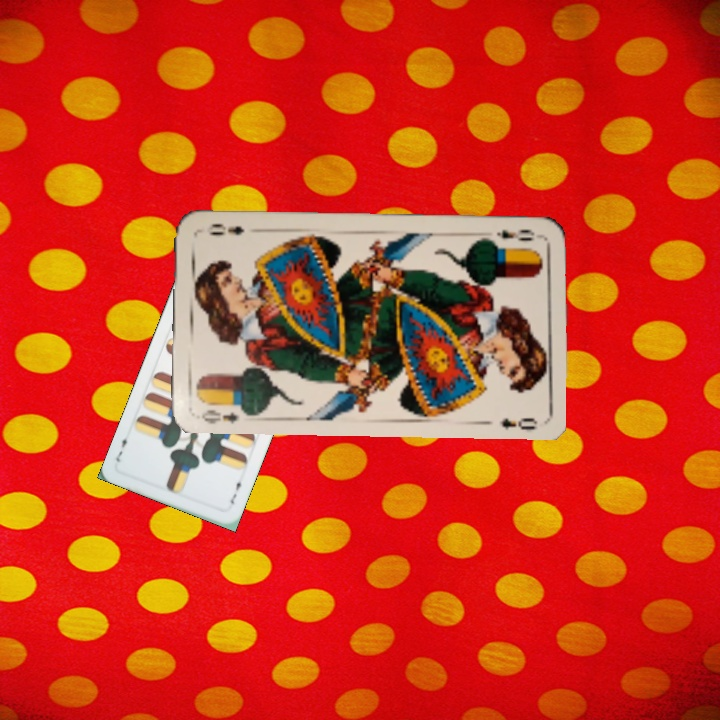E7: (226, 474, 246, 507)
EO: (198, 405, 241, 427), (492, 225, 537, 244)
